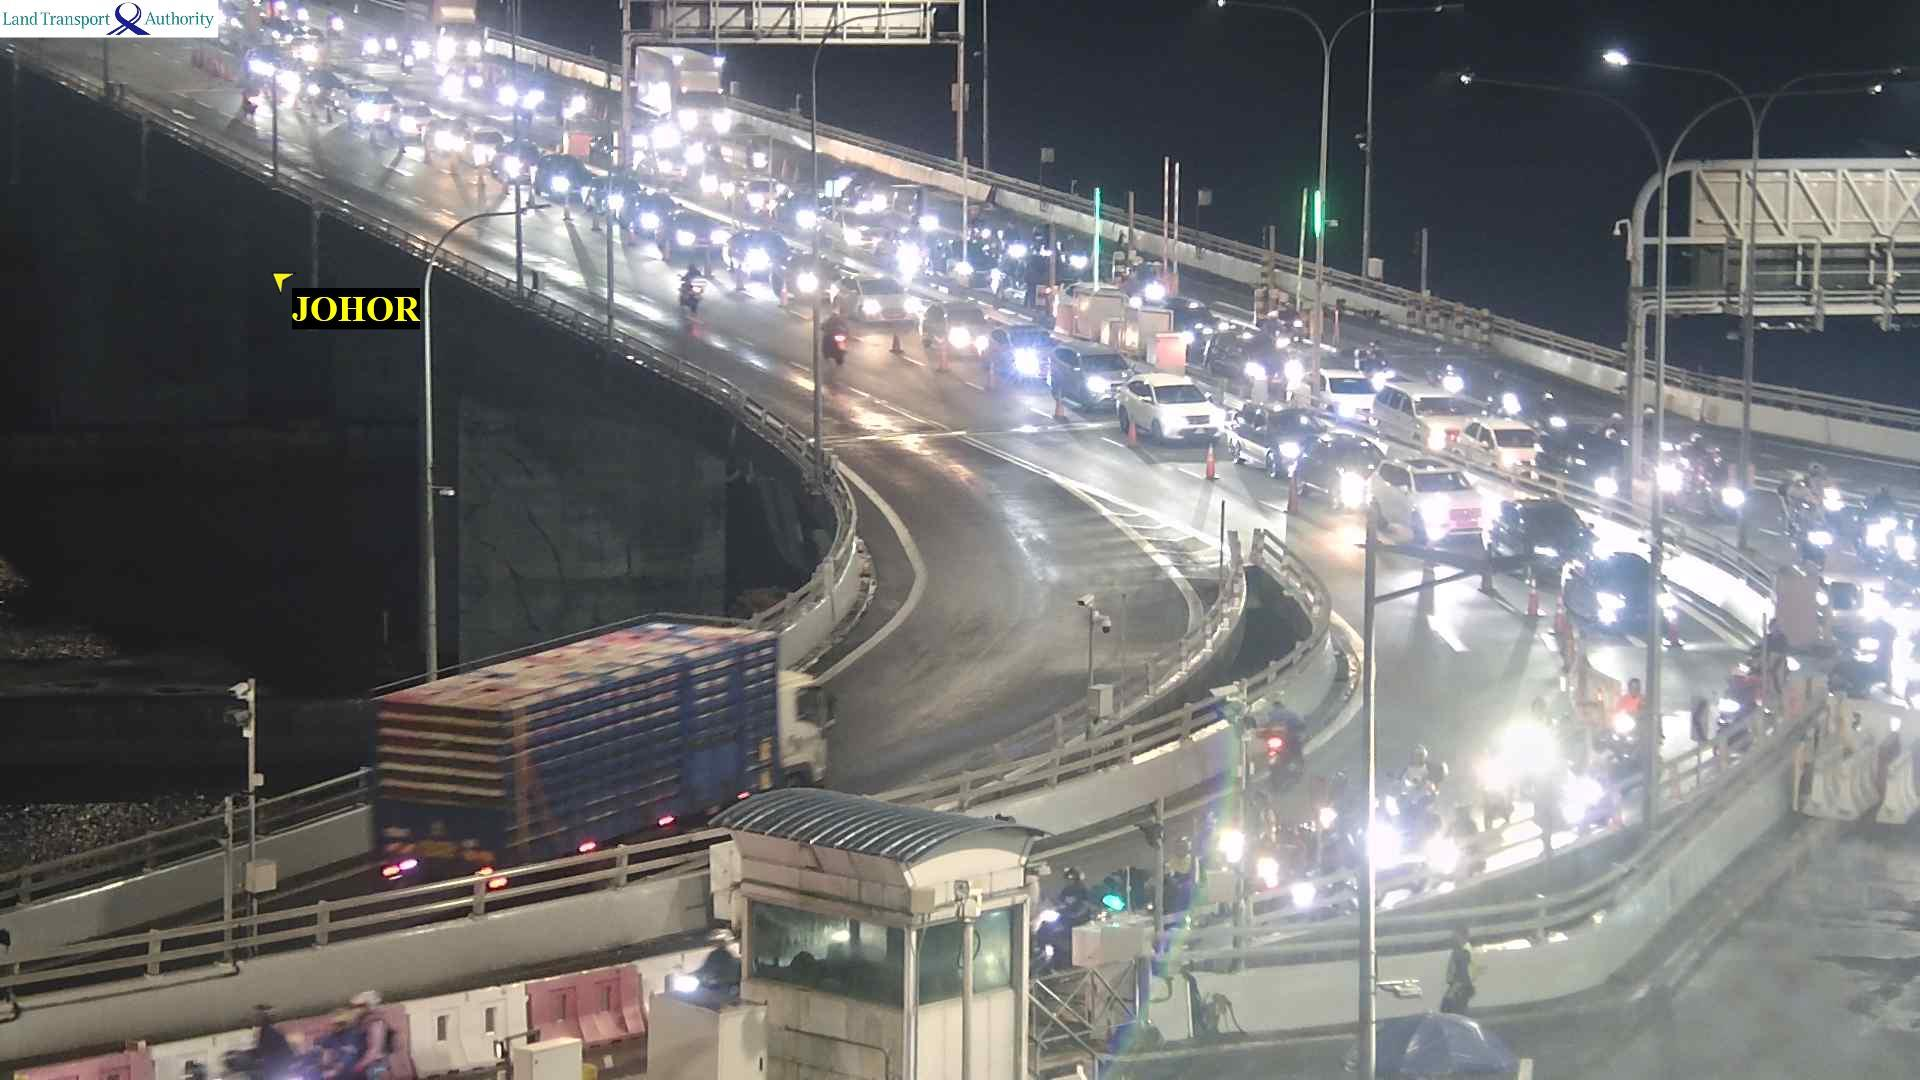vehicle-secondlink-johor: (367, 617, 831, 861), (816, 314, 847, 369), (676, 258, 711, 307), (239, 84, 262, 125)
vehicle-secondlink-singapore: (1373, 455, 1491, 555), (1563, 553, 1680, 633), (1498, 497, 1606, 584), (636, 49, 731, 136), (1378, 738, 1453, 845), (1598, 675, 1665, 782), (1233, 404, 1329, 477), (1298, 436, 1390, 509), (1247, 785, 1303, 903), (1377, 376, 1468, 444), (1118, 380, 1222, 439), (1307, 770, 1362, 881), (1050, 345, 1130, 400), (1457, 417, 1540, 467), (1209, 336, 1290, 388), (1691, 450, 1743, 518), (839, 280, 918, 322), (1307, 372, 1374, 417), (986, 330, 1052, 375), (924, 305, 985, 352), (825, 208, 886, 253), (661, 214, 715, 260), (778, 251, 829, 295), (583, 178, 638, 218), (1792, 497, 1825, 563), (719, 229, 778, 265), (1778, 472, 1815, 529), (347, 84, 394, 128), (539, 157, 588, 199), (618, 196, 669, 231), (489, 144, 531, 181), (458, 128, 505, 160), (423, 119, 467, 153), (389, 102, 431, 133), (555, 91, 592, 121), (438, 74, 464, 105), (514, 86, 546, 111), (436, 29, 454, 74), (440, 73, 462, 102), (496, 83, 520, 108), (398, 44, 415, 76), (464, 73, 488, 95), (363, 36, 381, 62), (327, 15, 345, 38), (384, 29, 397, 54)
